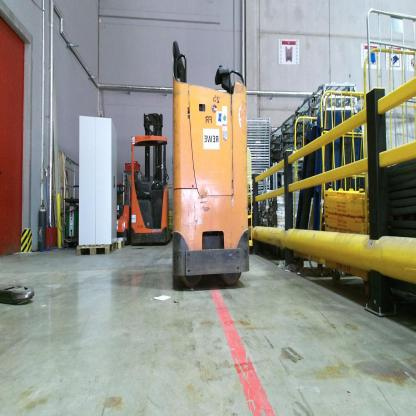forklift: (164, 38, 259, 285), (128, 107, 169, 248)
pallet: (72, 239, 117, 257), (116, 236, 130, 252)
pallet_truck: (110, 161, 136, 244)
